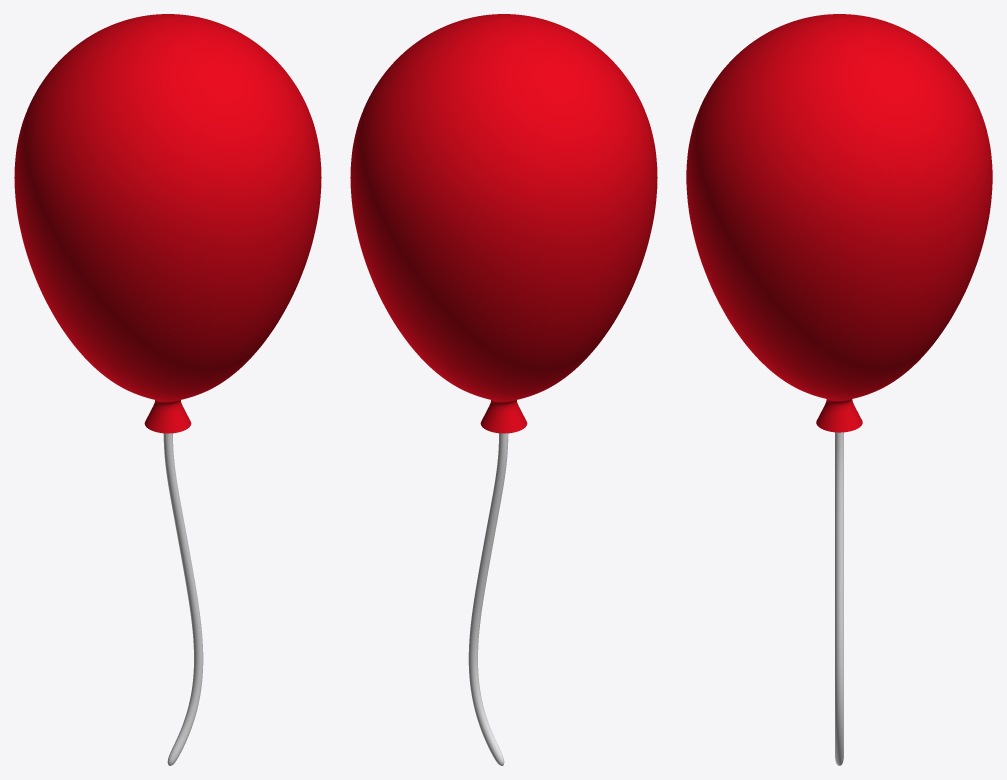
Rendered from balloonSingle.fbx.
3 views of the same model, side by side, from view 1: azimuth 30°, elevation 25°; view 2: azimuth 150°, elevation 25°; view 3: azimuth 270°, elevation 25° (orthographic).
Visible parts, largest first — view 1: ベジエカーブ; view 2: ベジエカーブ; view 3: ベジエカーブ.
Part boxes in pixels (x1=…): ベジエカーブ: x1=14, y1=14, x2=321, y2=765; ベジエカーブ: x1=350, y1=14, x2=657, y2=765; ベジエカーブ: x1=686, y1=14, x2=992, y2=765.
Bounding box in the file's own units: 190 × 504 × 190.
